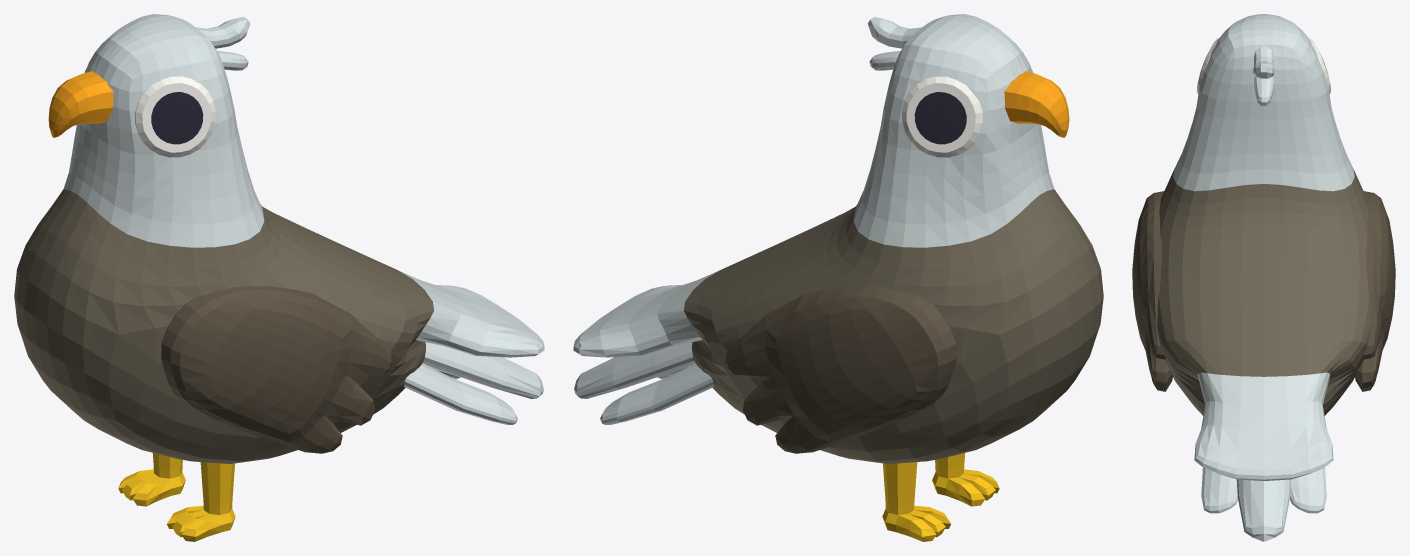
File: Eagle_LOD0.fbx
3 renders of one model, left to right at view 1: azimuth 30°, elevation 25°; view 2: azimuth 150°, elevation 25°; view 3: azimuth 270°, elevation 25°, orthographic. The views are drawn at different scales.
Parts seen in each view (by area): view 1: Mesh; view 2: Mesh; view 3: Mesh.
Boxes of the visible parts, <box> form: Mesh: <box>14,14,544,541</box>; Mesh: <box>573,14,1103,541</box>; Mesh: <box>1132,14,1395,541</box>.
Size of the model in its own units: 240 by 220 by 133.
1 material, 1 textured.
